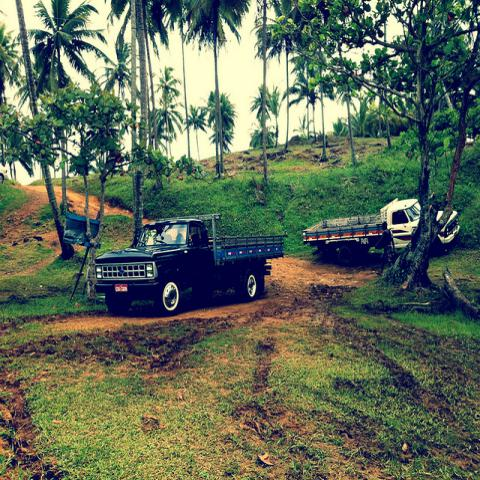truck: (95, 214, 288, 317), (302, 196, 420, 266)
